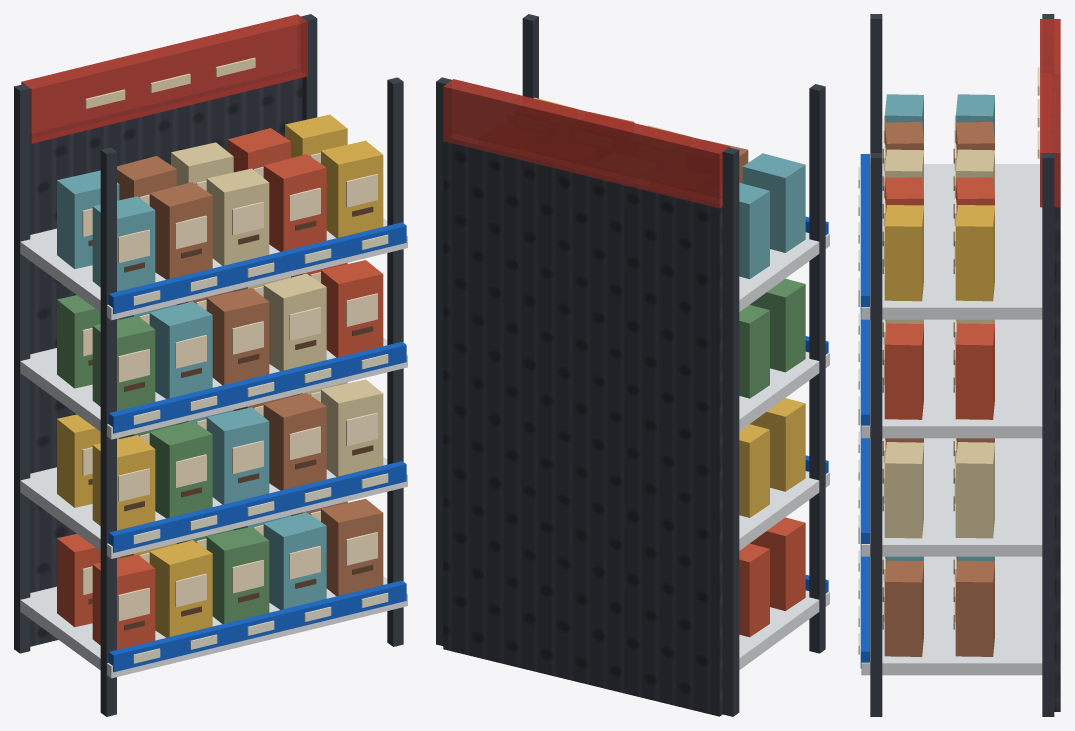
Rendered from shop-shelves.glb.
The picture shows the model from 3 angles, left to right: view 1: azimuth 30°, elevation 25°; view 2: azimuth 150°, elevation 25°; view 3: azimuth 270°, elevation 25°; orthographic projection.
Visible parts, largest first — view 1: fixture-upright (×4), food-price-strip (×4), food-back, stock-details_ffedcc, stock-packages_73b5bf, stock-packages_b67856, food-deck (×4), food-header, stock-packages_d45c3f, stock-packages_e8bb4f, stock-packages_e5d4a7, stock-packages_699c6a (+3 smaller); view 2: food-back, fixture-upright (×4), food-header, food-deck (×4), stock-packages_73b5bf, stock-packages_d45c3f, stock-packages_e8bb4f, stock-packages_699c6a; view 3: food-deck (×4), fixture-upright (×3), stock-packages_e5d4a7, stock-packages_b67856, stock-packages_d45c3f, stock-packages_e8bb4f, food-price-strip (×4), food-back, food-header, stock-packages_73b5bf, stock-details_ffedcc, stock-details_694936 (+1 smaller).
Boxes of the visible parts, box(x1,y1,x2,y2) form: fixture-upright (×4): box(14, 14, 403, 716); food-price-strip (×4): box(108, 222, 406, 672); food-back: box(30, 70, 302, 646); stock-details_ffedcc: box(82, 152, 377, 621); stock-packages_73b5bf: box(57, 170, 326, 609); stock-packages_b67856: box(117, 156, 383, 596); food-deck (×4): box(20, 218, 407, 678); food-header: box(21, 14, 307, 143); stock-packages_d45c3f: box(57, 128, 383, 649); stock-packages_e8bb4f: box(57, 114, 383, 637); stock-packages_e5d4a7: box(171, 142, 383, 476); stock-packages_699c6a: box(57, 295, 269, 623); food-back: box(443, 138, 722, 716); fixture-upright (×4): box(436, 14, 825, 716); food-header: box(443, 79, 729, 208); food-deck (×4): box(739, 232, 829, 669); stock-packages_73b5bf: box(739, 153, 805, 279); stock-packages_d45c3f: box(590, 112, 805, 637); stock-packages_e8bb4f: box(533, 97, 805, 517); stock-packages_699c6a: box(739, 278, 805, 398); food-deck (×4): box(861, 164, 1042, 675); fixture-upright (×3): box(870, 14, 1054, 716); stock-packages_e5d4a7: box(884, 149, 994, 538); stock-packages_b67856: box(884, 122, 994, 656); stock-packages_d45c3f: box(884, 177, 994, 419); stock-packages_e8bb4f: box(884, 205, 994, 301); food-price-strip (×4): box(860, 154, 869, 668); food-back: box(1052, 74, 1060, 711); food-header: box(1040, 19, 1060, 207); stock-packages_73b5bf: box(884, 94, 994, 570); stock-details_ffedcc: box(883, 115, 956, 622); stock-details_694936: box(882, 148, 954, 629).
Bounding box in the file's own units: 0.912 × 1.65 × 0.5405.
15 materials, 1 textured.
